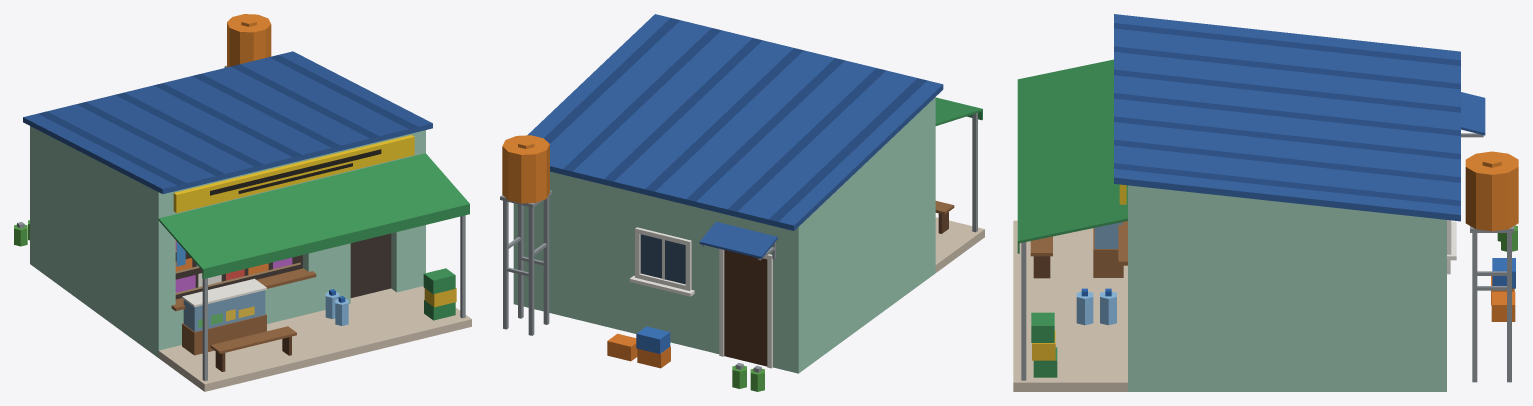
File: warung_00.glb
3 renders of one model, left to right at view 1: azimuth 30°, elevation 25°; view 2: azimuth 150°, elevation 25°; view 3: azimuth 270°, elevation 25°, orthographic. The views are drawn at different scales.
Parts seen in each view (by area): view 1: warung_00; view 2: warung_00; view 3: warung_00.
Part boxes in pixels (bbox=[...]): warung_00: bbox=[14, 14, 471, 391]; warung_00: bbox=[500, 14, 984, 391]; warung_00: bbox=[1013, 14, 1518, 391].
Bounding box in the file's own units: 5.58 × 3.42 × 7.28.
